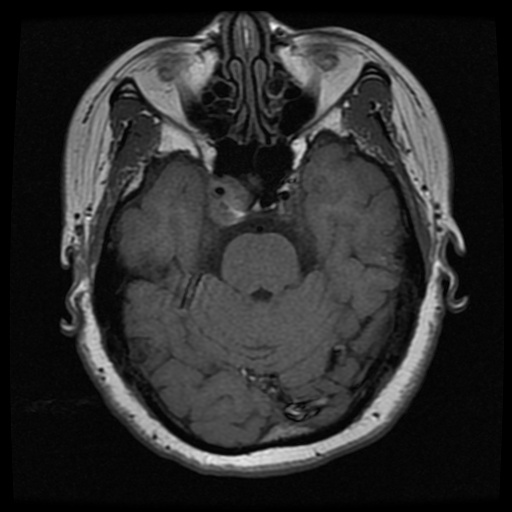pituitary: (202, 177, 252, 222)
